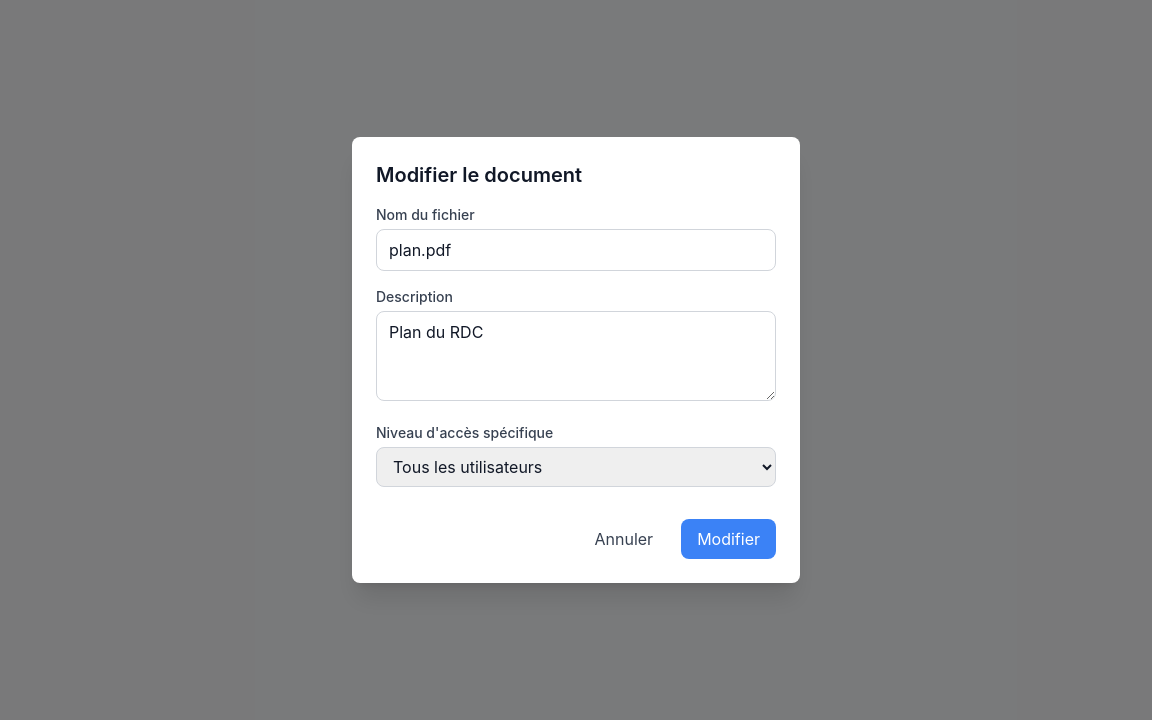
it: DocumentEditModal › Soumission › desactive le bouton si nom vide
The width and height of the screenshot is (1152, 720).
Clear the field showing "plan.pdf": [576, 250] box [376,229,776,271]
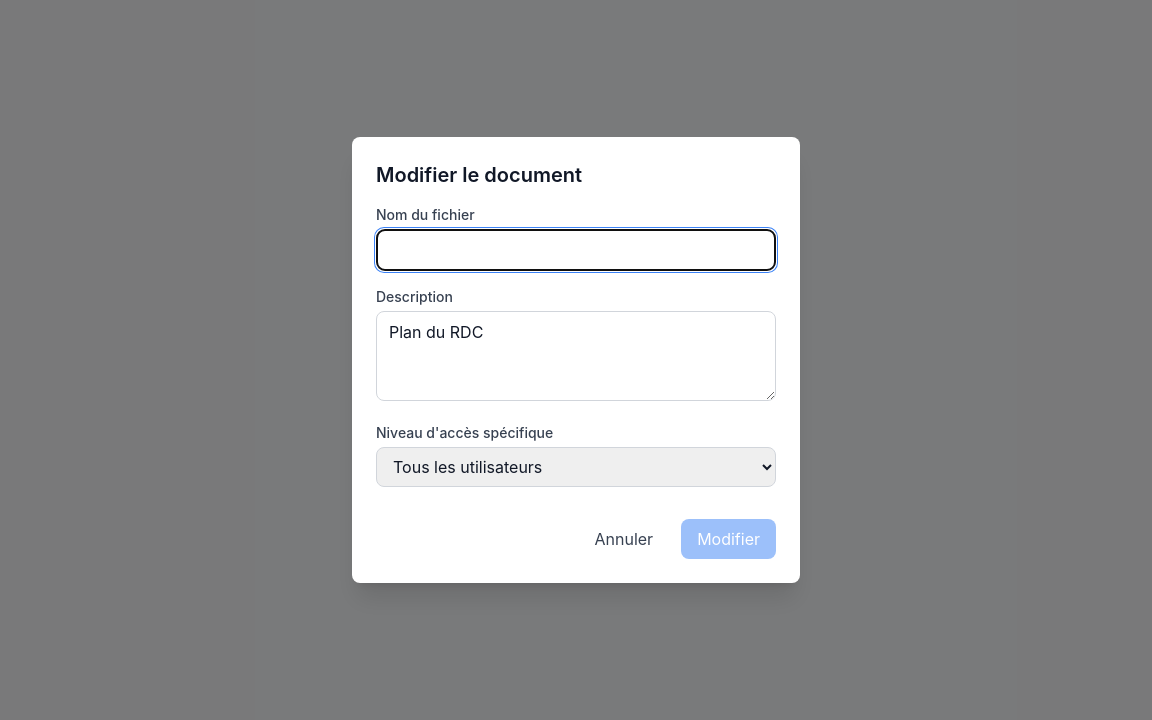
Expected: the button "Modifier" is disabled, [681,519,776,559]
